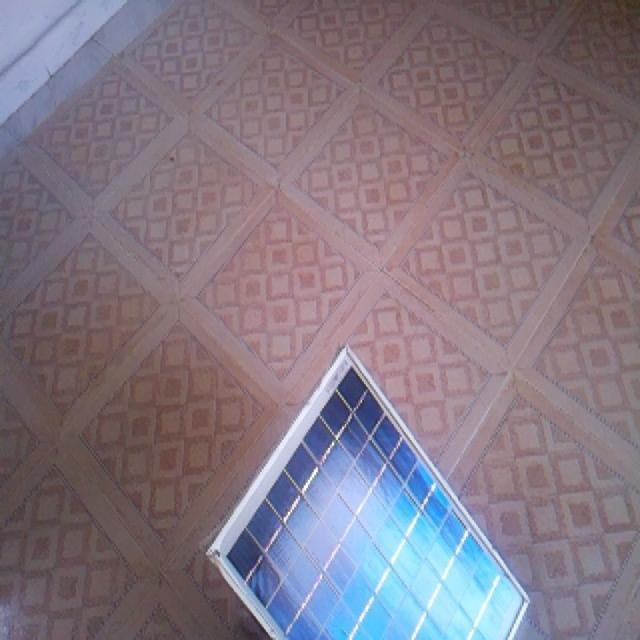Normal Solar Panel: (208, 348, 529, 640)
